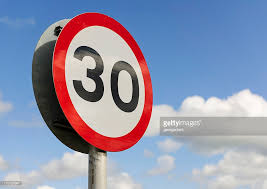Speed_limit_30km: (52, 11, 154, 152)
